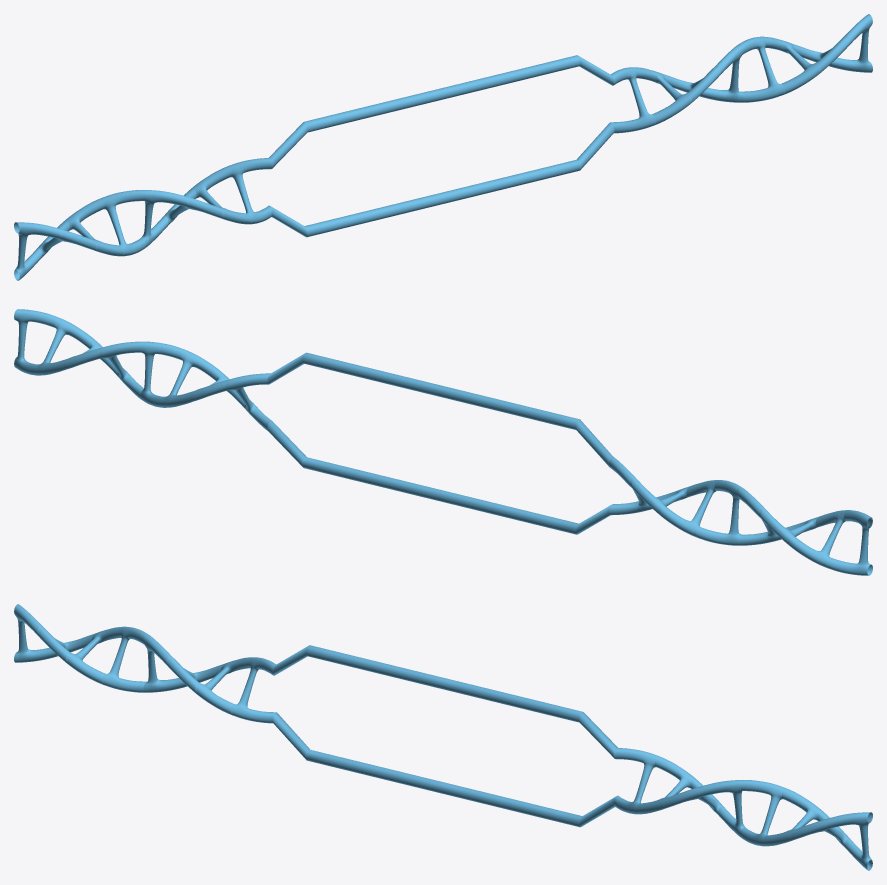
Rendered from dna_strand.fbx.
3 renders of one model, top to bottom at view 1: azimuth 30°, elevation 25°; view 2: azimuth 150°, elevation 25°; view 3: azimuth 330°, elevation 25°, orthographic.
Visible parts, largest first — view 1: Plane.002; view 2: Plane.002; view 3: Plane.002.
Boxes of the visible parts, x1=… form: Plane.002: x1=14, y1=14, x2=872, y2=280; Plane.002: x1=14, y1=309, x2=872, y2=575; Plane.002: x1=14, y1=604, x2=872, y2=870.
Bounding box in the file's own units: 188 × 24.1 × 12.59.
